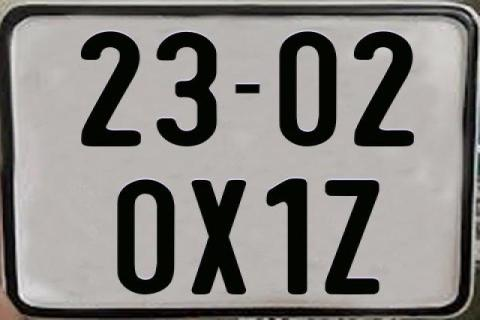0: (154, 30, 221, 146), (117, 179, 180, 299), (80, 31, 145, 147), (279, 29, 338, 149), (351, 29, 412, 145), (264, 178, 307, 296)
X: (188, 178, 243, 296)
Z: (324, 178, 381, 296)
